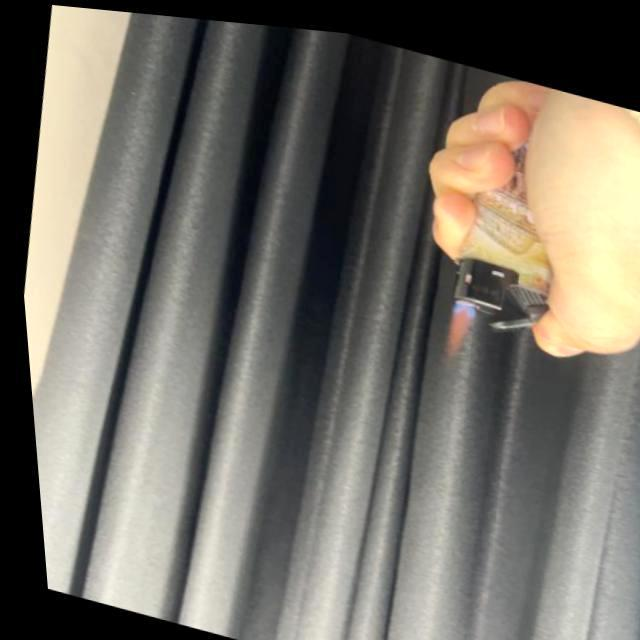fire: (434, 290, 474, 358)
